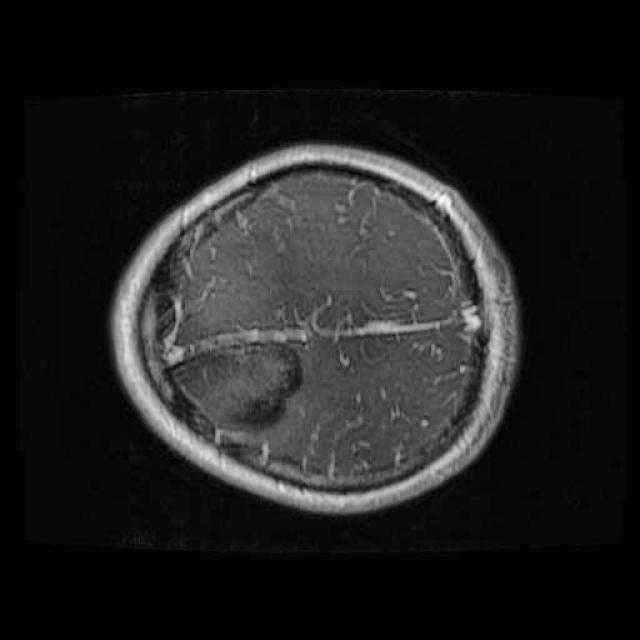Tumor: (152, 326, 308, 450)
